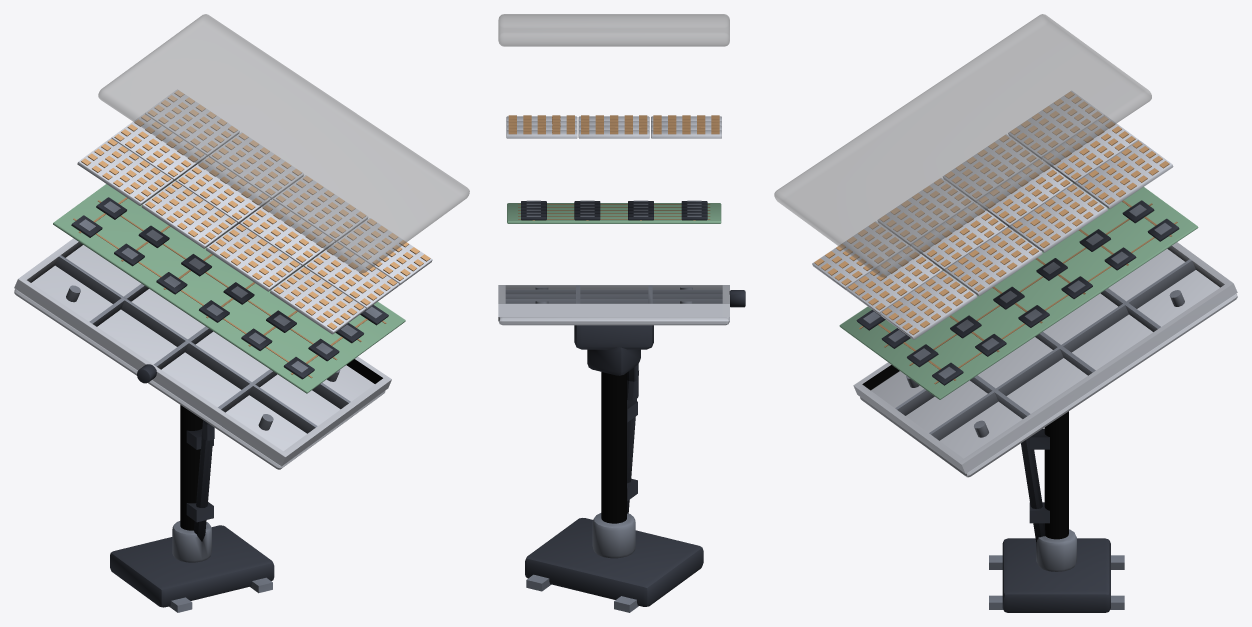
Rendered from terminal.detail.glb.
3 views of the same model, side by side, from view 1: azimuth 30°, elevation 25°; view 2: azimuth 150°, elevation 25°; view 3: azimuth 270°, elevation 25° (orthographic). The views are drawn at different scales.
Parts seen in each view (by area): view 1: terminal.cover.ghost, terminal.tiles.light, terminal.chassis.light, terminal.tiles.warm, terminal.circuit.foliage, terminal.chassis.graphite, terminal.chassis.mid, terminal.circuit.graphite, terminal.chassis.metal, terminal.circuit.metal, terminal.circuit.warm; view 2: terminal.chassis.graphite, terminal.cover.ghost, terminal.chassis.light, terminal.chassis.metal, terminal.chassis.mid, terminal.tiles.light, terminal.circuit.foliage, terminal.tiles.warm, terminal.circuit.graphite, terminal.circuit.metal, terminal.circuit.warm; view 3: terminal.cover.ghost, terminal.tiles.light, terminal.chassis.light, terminal.tiles.warm, terminal.circuit.foliage, terminal.chassis.graphite, terminal.chassis.mid, terminal.chassis.metal, terminal.circuit.graphite, terminal.circuit.metal, terminal.circuit.warm.
Boxes of the visible parts, box(x1,y1,x2,y2) form: terminal.cover.ghost: box(98, 14, 469, 273); terminal.tiles.light: box(77, 89, 432, 334); terminal.chassis.light: box(14, 238, 391, 469); terminal.tiles.warm: box(81, 90, 430, 329); terminal.circuit.foliage: box(53, 174, 405, 393); terminal.chassis.graphite: box(110, 364, 274, 607); terminal.chassis.mid: box(55, 255, 350, 433); terminal.circuit.graphite: box(71, 197, 388, 379); terminal.chassis.metal: box(169, 405, 272, 612); terminal.circuit.metal: box(79, 201, 382, 372); terminal.circuit.warm: box(73, 181, 386, 377); terminal.chassis.graphite: box(525, 290, 745, 606); terminal.cover.ghost: box(498, 14, 729, 46); terminal.chassis.light: box(498, 285, 729, 325); terminal.chassis.metal: box(526, 372, 638, 612); terminal.chassis.mid: box(505, 285, 722, 303); terminal.tiles.light: box(506, 116, 721, 138); terminal.circuit.foliage: box(507, 203, 721, 223); terminal.tiles.warm: box(508, 115, 719, 134); terminal.circuit.graphite: box(521, 201, 707, 220); terminal.circuit.metal: box(526, 200, 701, 216); terminal.circuit.warm: box(518, 204, 710, 220); terminal.cover.ghost: box(774, 14, 1151, 277); terminal.tiles.light: box(812, 90, 1173, 339); terminal.chassis.light: box(853, 242, 1237, 477); terminal.tiles.warm: box(814, 91, 1169, 335); terminal.circuit.foliage: box(839, 176, 1198, 399); terminal.chassis.graphite: box(1002, 428, 1110, 612); terminal.chassis.mid: box(895, 259, 1195, 440); terminal.chassis.metal: box(989, 411, 1124, 609); terminal.circuit.graphite: box(856, 200, 1179, 385); terminal.circuit.metal: box(863, 204, 1171, 378); terminal.circuit.warm: box(859, 184, 1177, 384).
Bounding box in the file's own units: 0.5783 × 0.8549 × 0.684.
